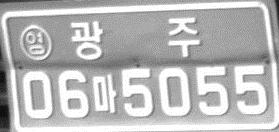0: (158, 66, 191, 117), (21, 70, 54, 120)
5: (233, 64, 268, 116), (194, 65, 229, 116), (120, 67, 153, 118)
6: (56, 69, 89, 120)
광주_D: (68, 16, 201, 62)
마: (91, 73, 117, 113)
영: (19, 24, 53, 60)
